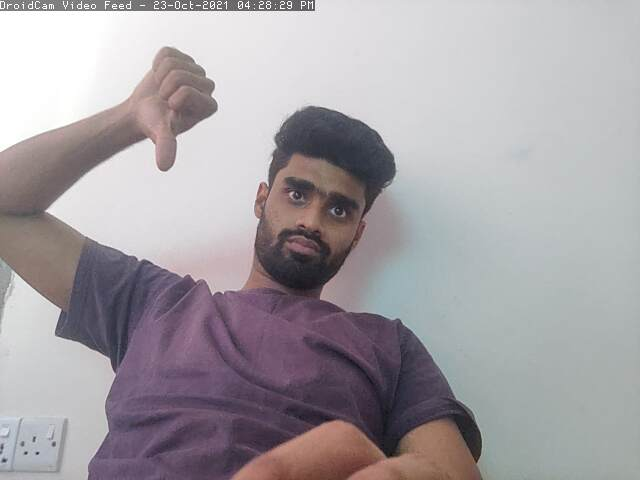ThumbsDown: (119, 38, 226, 182)
